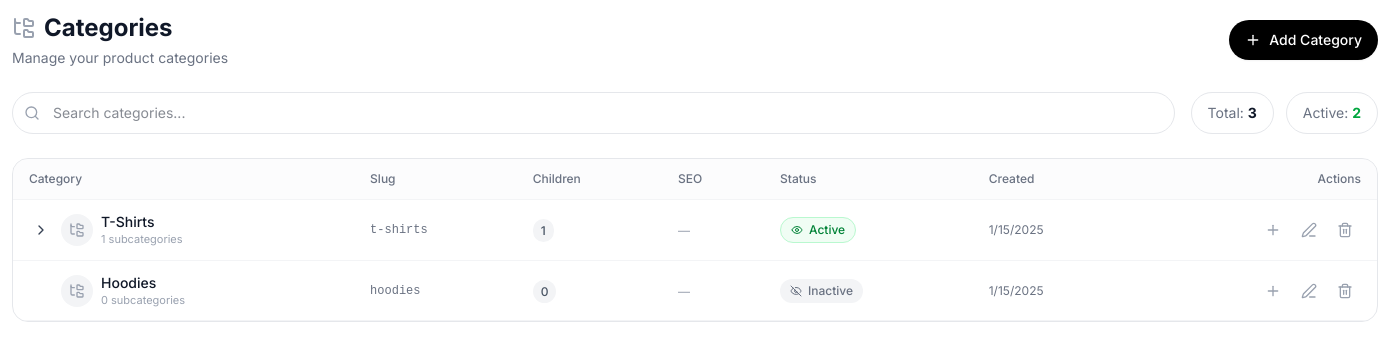
Scenario: CategoryTable › search › filters categories by name
This screenshot has width=1390, height=339.
Check: the text "T-Shirts" is shown, box top-left (101, 213), bottom-right (154, 230)
Check: the text "Hoodies" is shown, box top-left (101, 274), bottom-right (156, 291)
In the field with placeholder "Search categories...": (593,113) top-left (12, 92), bottom-right (1174, 134), type "hood"
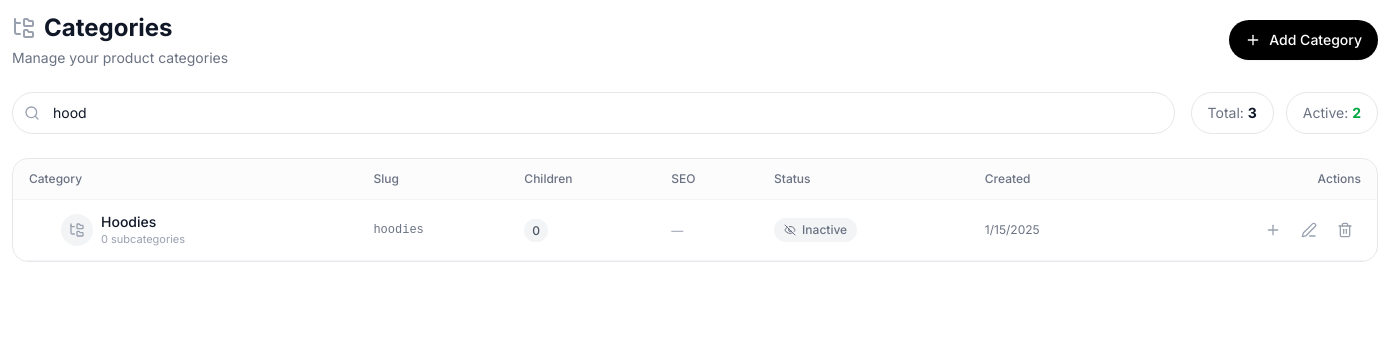
Check: the text "Hoodies" is shown, box top-left (101, 213), bottom-right (156, 230)
Check: the text "T-Shirts" is gone
